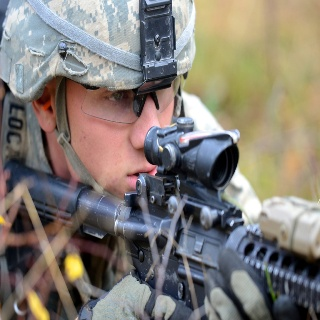rifle: (3, 117, 320, 320)
